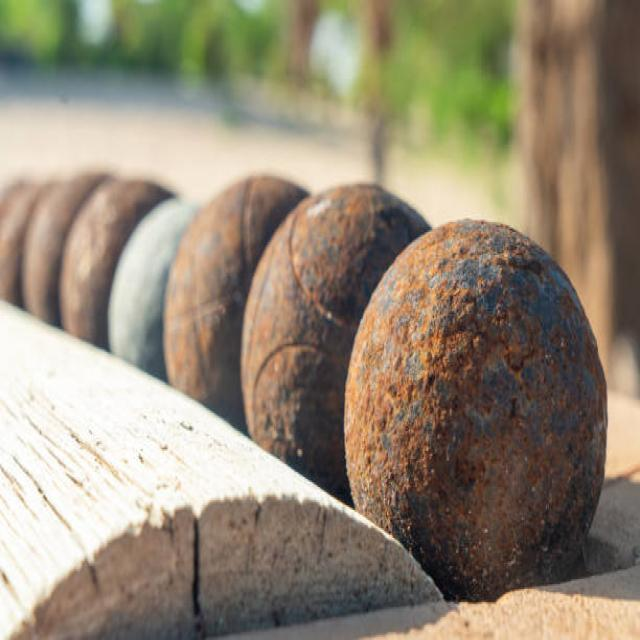petanque: (337, 207, 621, 619), (232, 178, 447, 512), (156, 164, 317, 446)
